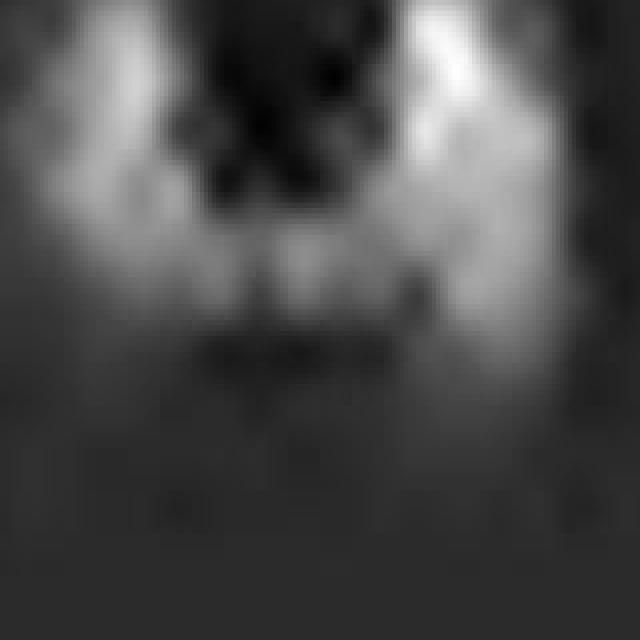person: (277, 1, 585, 417), (17, 1, 241, 396)
